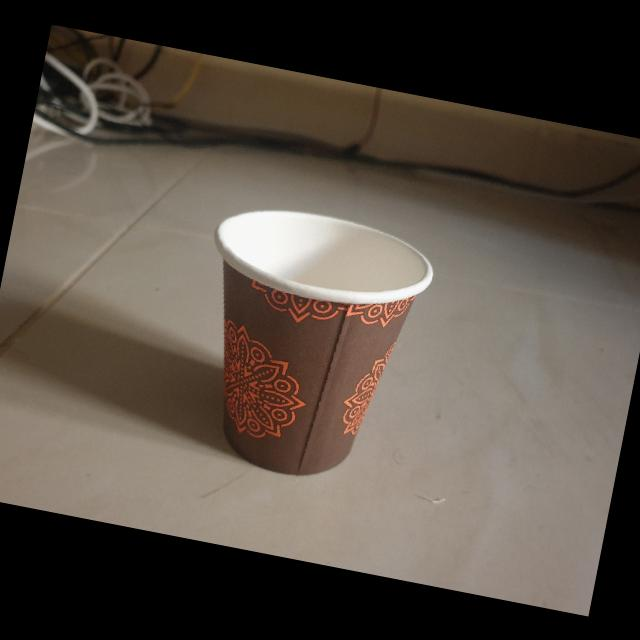trash: (168, 190, 442, 497)
